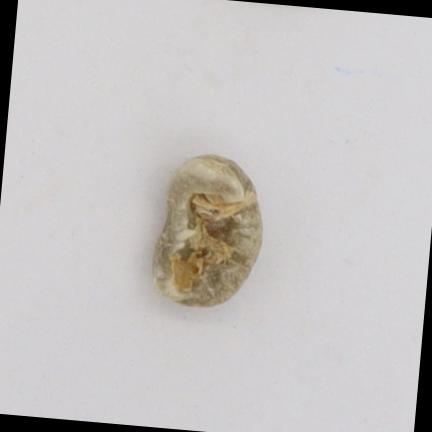shell: (153, 155, 262, 306)
